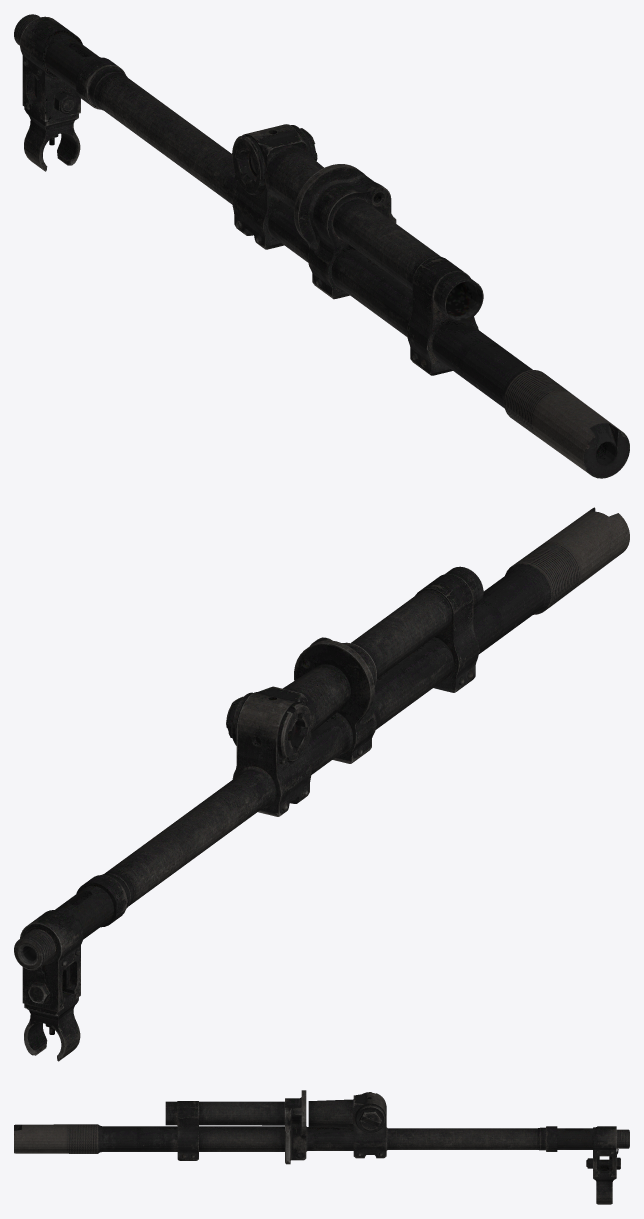
The picture shows the model from 3 angles, top to bottom: view 1: azimuth 30°, elevation 25°; view 2: azimuth 150°, elevation 25°; view 3: azimuth 270°, elevation 25°; orthographic projection. The views are drawn at different scales.
Parts seen in each view (by area): view 1: TW_6513eff1e06849f06c0957d4_PZ_Import; view 2: TW_6513eff1e06849f06c0957d4_PZ_Import; view 3: TW_6513eff1e06849f06c0957d4_PZ_Import.
Part boxes in pixels (x1,y1,x2,y2): TW_6513eff1e06849f06c0957d4_PZ_Import: (14,14,629,478); TW_6513eff1e06849f06c0957d4_PZ_Import: (14,507,629,1061); TW_6513eff1e06849f06c0957d4_PZ_Import: (14,1090,629,1204).
Size of the model in its own units: 0.0253 by 0.3017 by 0.0591.
Materials: 1 (1 with a texture image).
